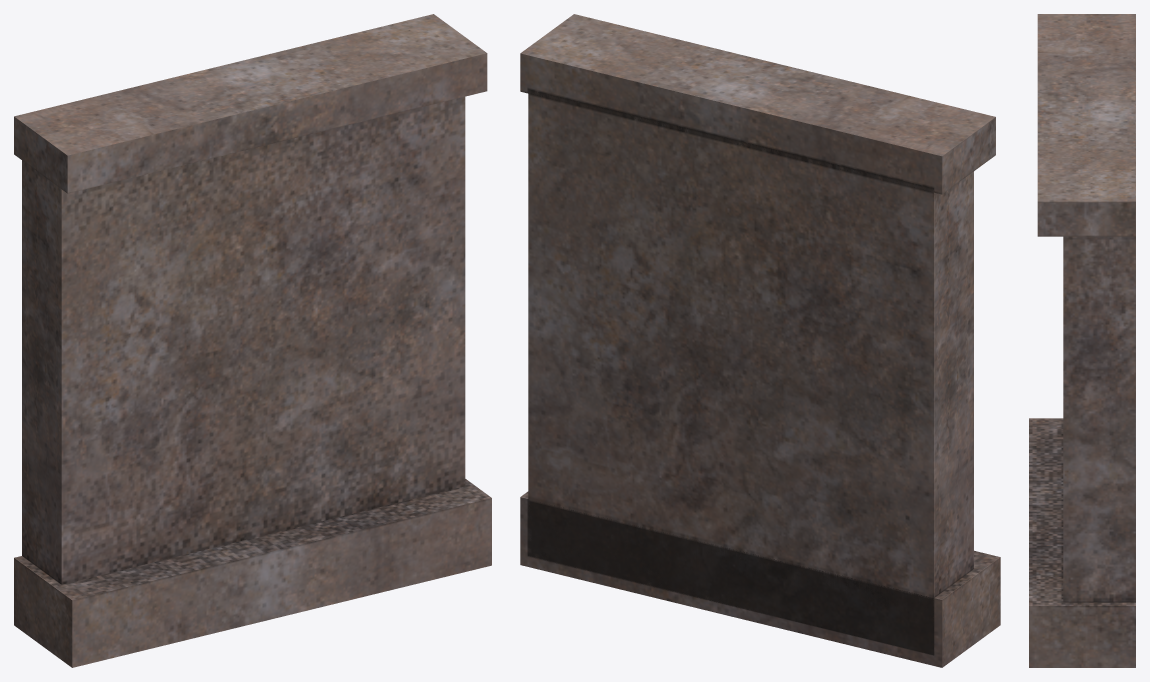
The model's file is wall_straight.glb.
The picture shows the model from 3 angles, left to right: view 1: azimuth 30°, elevation 25°; view 2: azimuth 150°, elevation 25°; view 3: azimuth 270°, elevation 25°; orthographic projection. The views are drawn at different scales.
Visible parts, largest first — view 1: wall_straight; view 2: wall_straight; view 3: wall_straight.
Boxes of the visible parts, box(x1,y1,x2,y2) form: wall_straight: box(14, 14, 491, 667); wall_straight: box(520, 14, 1000, 667); wall_straight: box(1029, 14, 1135, 667).
Size of the model in its own units: 2.08 by 2.41 by 0.5.
1 material, 1 textured.
